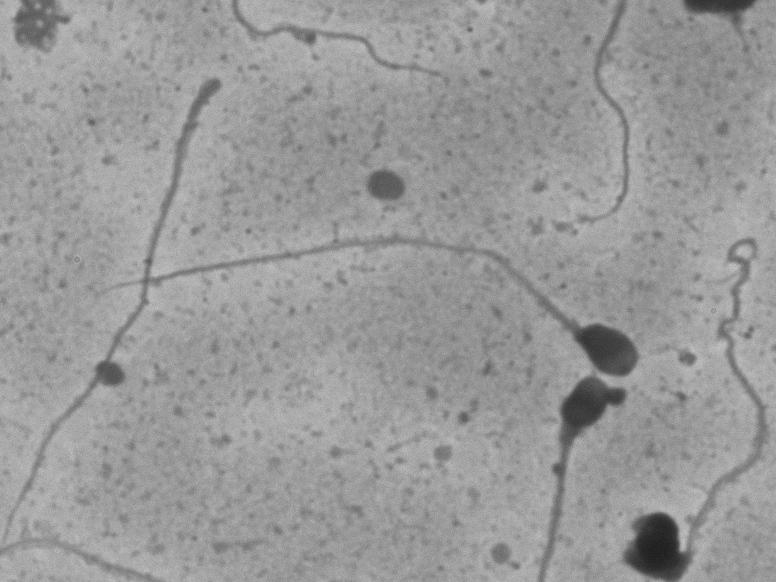Abnormal: (80, 220, 653, 390), (604, 464, 755, 576)
